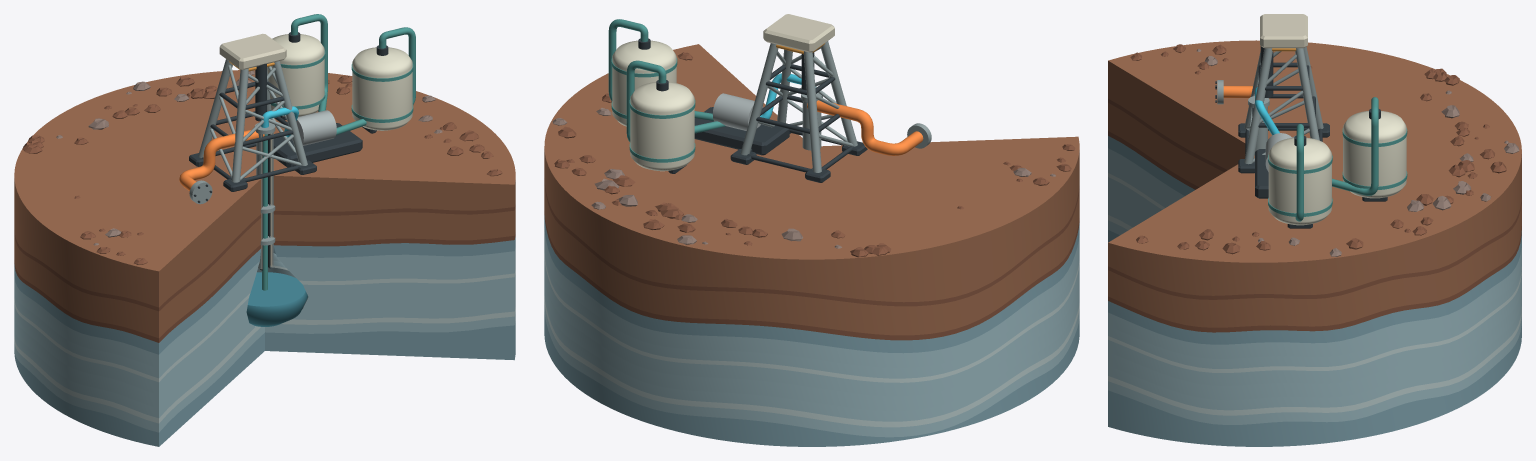
File: p1_zone_c_utopia_ice_well.glb
3 renders of one model, left to right at view 1: azimuth 30°, elevation 25°; view 2: azimuth 150°, elevation 25°; view 3: azimuth 270°, elevation 25°, orthographic. The views are drawn at different scales.
Visible parts, largest first — view 1: Regolith, Buried ice, Lattice derrick, Insulated vessel 2, Surface clasts, Insulated vessel 1, Liquid reservoir, Coaxial casing, Storage header, Base, Inlet, Pump; view 2: Regolith, Buried ice, Lattice derrick, Insulated vessel 1, Surface clasts, Insulated vessel 2, Storage header, Inlet, Base, Pump; view 3: Regolith, Buried ice, Lattice derrick, Insulated vessel 2, Insulated vessel 1, Surface clasts, Storage header, Base, Inlet.
Part boxes in pixels (bbox=[...]): Regolith: bbox=[14, 70, 515, 342]; Buried ice: bbox=[14, 237, 515, 446]; Lattice derrick: bbox=[189, 33, 316, 191]; Insulated vessel 2: bbox=[351, 45, 413, 133]; Surface clasts: bbox=[22, 70, 502, 264]; Insulated vessel 1: bbox=[267, 32, 325, 119]; Liquid reservoir: bbox=[246, 272, 307, 326]; Coaxial casing: bbox=[254, 122, 275, 290]; Storage header: bbox=[291, 14, 415, 134]; Base: bbox=[273, 123, 362, 167]; Inlet: bbox=[179, 129, 264, 204]; Pump: bbox=[292, 110, 336, 145]; Regolith: bbox=[544, 44, 1079, 340]; Buried ice: bbox=[544, 215, 1079, 446]; Lattice derrick: bbox=[730, 14, 867, 182]; Insulated vessel 1: bbox=[629, 80, 695, 173]; Surface clasts: bbox=[552, 52, 1075, 257]; Insulated vessel 2: bbox=[611, 38, 677, 126]; Storage header: bbox=[608, 19, 725, 142]; Inlet: bbox=[807, 100, 931, 155]; Base: bbox=[694, 107, 789, 155]; Pump: bbox=[712, 93, 763, 130]; Regolith: bbox=[1108, 40, 1521, 332]; Buried ice: bbox=[1108, 136, 1521, 446]; Lattice derrick: bbox=[1238, 14, 1329, 173]; Insulated vessel 2: bbox=[1268, 135, 1332, 228]; Insulated vessel 1: bbox=[1342, 109, 1407, 201]; Surface clasts: bbox=[1130, 44, 1519, 256]; Storage header: bbox=[1295, 97, 1378, 221]; Base: bbox=[1255, 149, 1268, 198]; Inlet: bbox=[1215, 80, 1268, 110].
Size of the model in its own units: 7.12 by 4.64 by 5.6.
